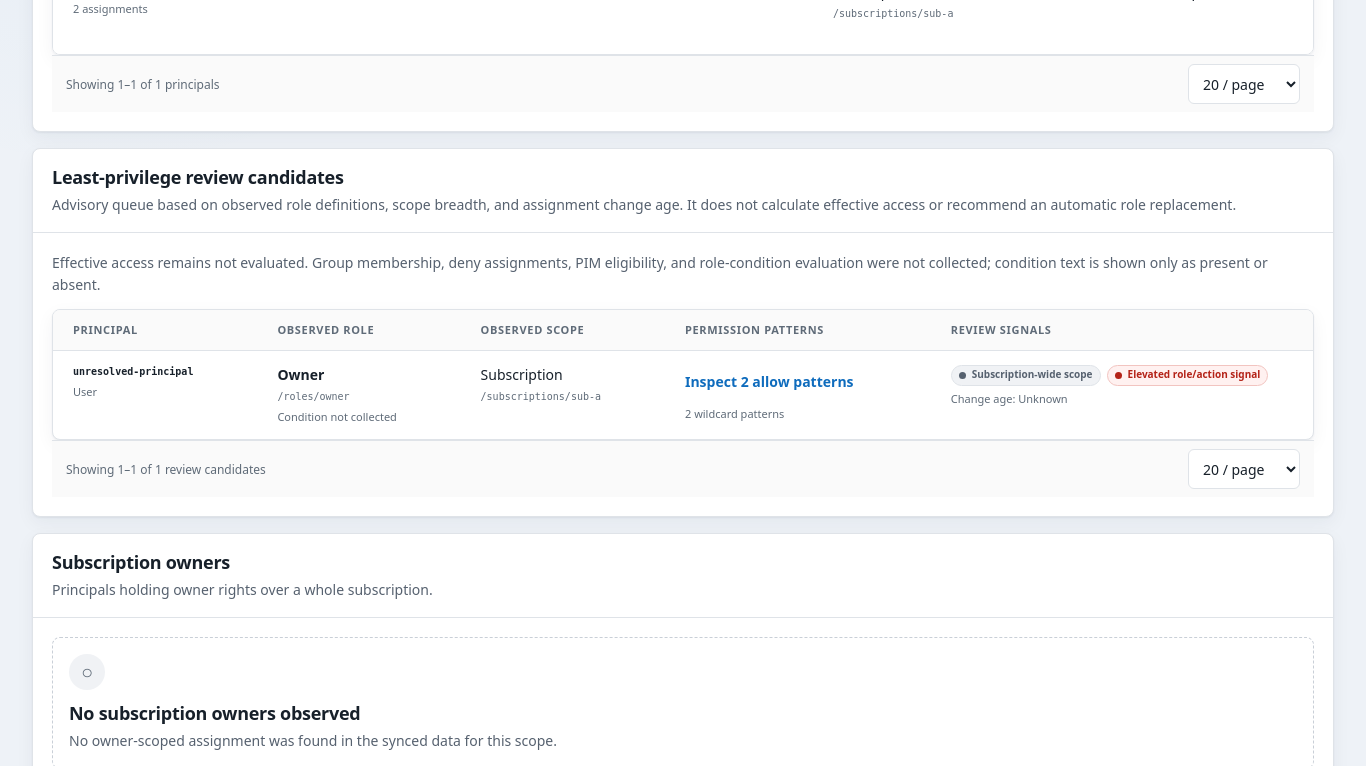
Scenario: Identity evidence boundaries › shows scoped least-privilege candidates and the actual permission patterns
(page scrolled)
Expected: the text "Effective access remains not evaluated" is shown, x1=52 y1=253 x2=1268 y2=294
Expected: the text "Subscription-wide scope" is shown, x1=951 y1=364 x2=1100 y2=386
Click the heading "Inspect 2 allow patterns" at (769, 382), box x1=685 y1=372 x2=854 y2=391
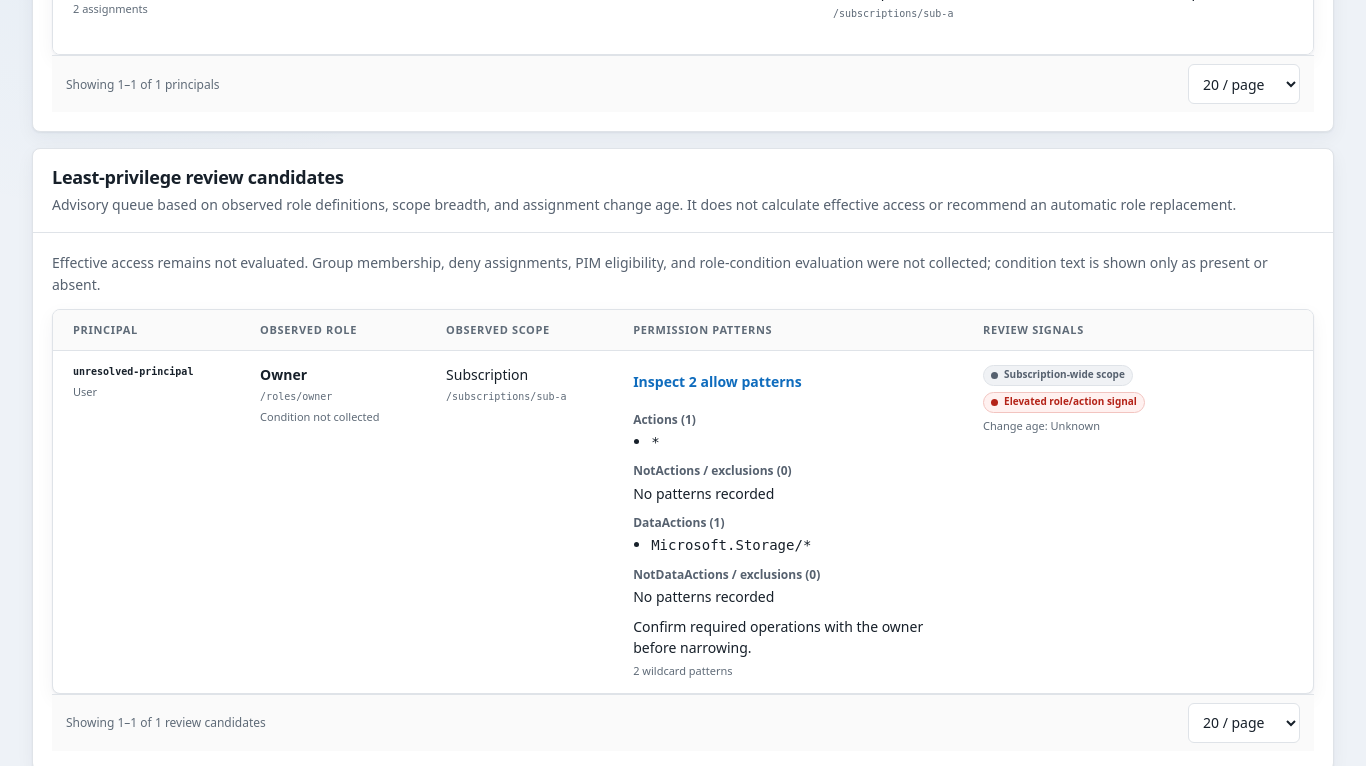
Result: the text "*" is shown at x1=651 y1=434 x2=660 y2=450
Result: the text "Microsoft.Storage/*" is shown at x1=651 y1=537 x2=811 y2=553
Result: the text "Confirm required operations with the owner before narrowing." is shown at x1=633 y1=617 x2=943 y2=658
